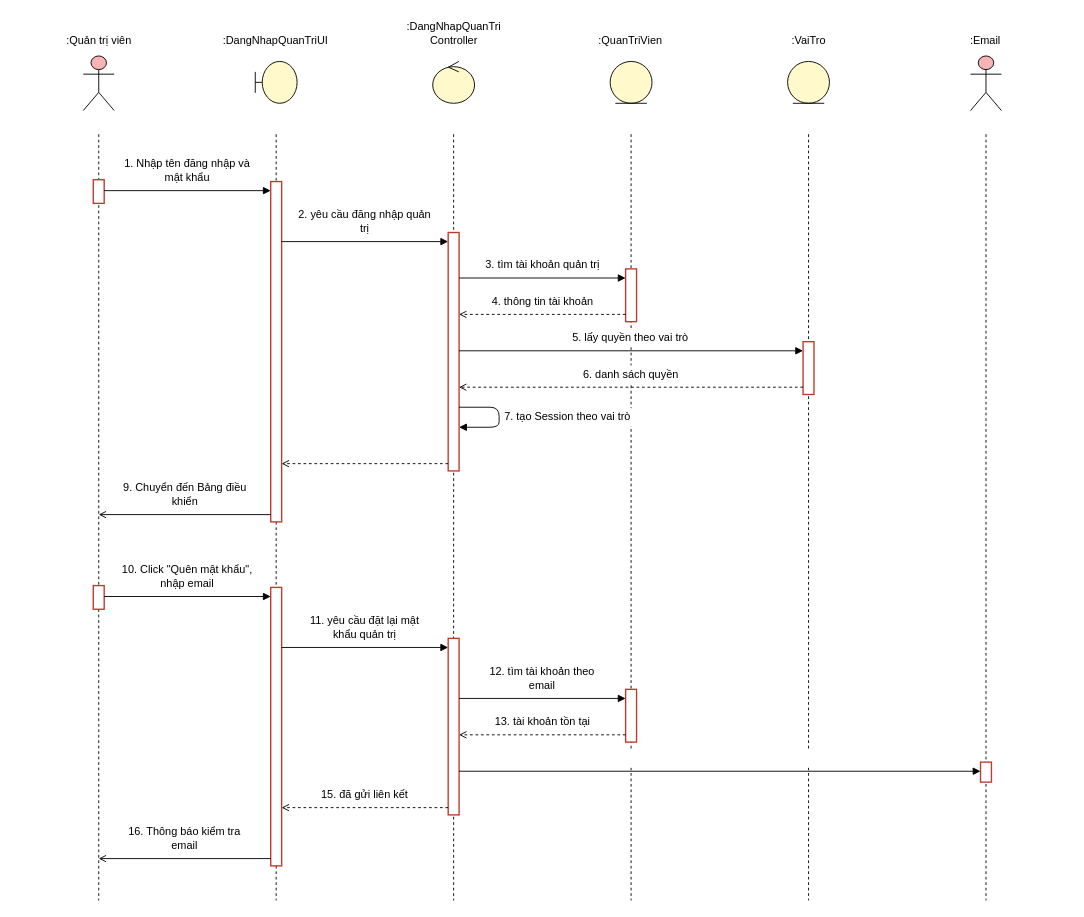
Image size: 1084x917. Some labels were removed from this diagram. Each missing label, with the box of its shape:
14. gửi liên kết đặt lại mật khẩu: (625, 749, 813, 767)
8. đăng nhập thành công: (289, 441, 440, 460)
